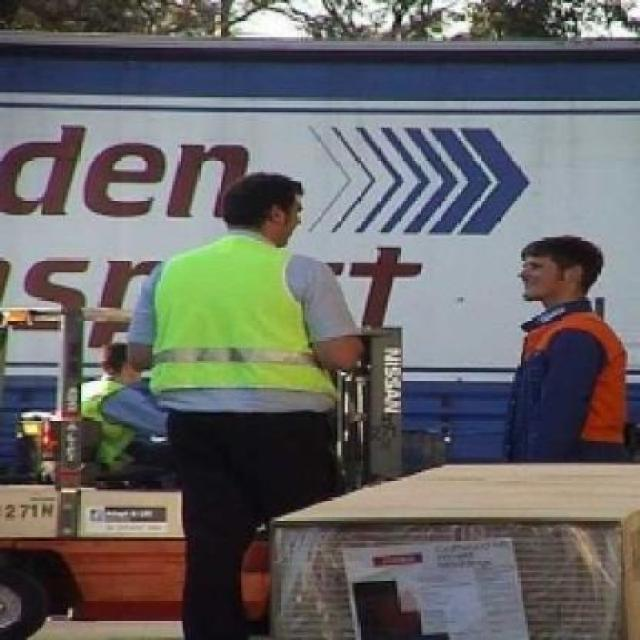forklift: (3, 297, 403, 640), (123, 169, 366, 640), (497, 232, 628, 460)
